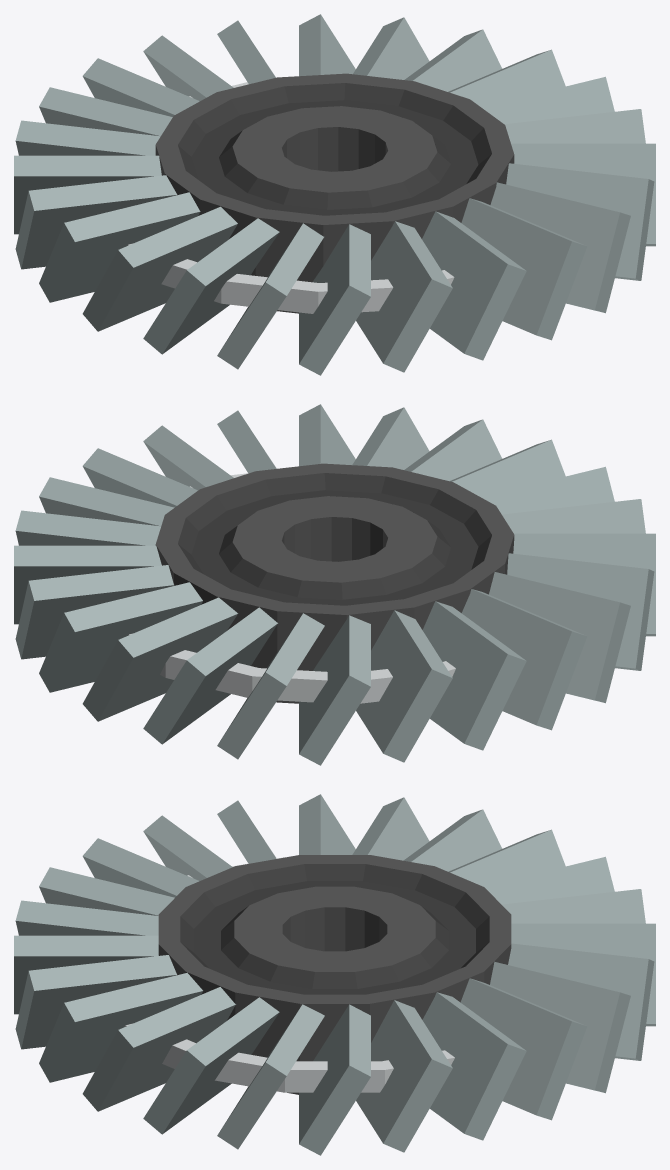
Rendered from rotor_invar.obj.
3 views of the same model, one above another, from view 1: azimuth 30°, elevation 25°; view 2: azimuth 150°, elevation 25°; view 3: azimuth 270°, elevation 25° (orthographic).
Visible parts, largest first — view 1: 3, 2, 1, g, f, h, c, a, q, e, r, i (+16 smaller); view 2: 3, 2, 1, s, r, t, x, b, a, w, j, u (+16 smaller); view 3: 3, 2, 1, k, j, l, p, q, b, o, f, m (+16 smaller).
Part boxes in pixels (x1,y1,x2,y2): 3: (178, 83, 491, 215); 2: (155, 73, 514, 313); 1: (232, 106, 437, 192); g: (422, 211, 526, 360); f: (461, 198, 587, 340); h: (356, 221, 452, 372); c: (82, 206, 237, 331); a: (39, 192, 200, 302); q: (490, 182, 630, 313); e: (143, 218, 279, 354); r: (15, 175, 177, 269); i: (299, 224, 370, 375); 3: (178, 473, 491, 605); 2: (155, 463, 514, 703); 1: (232, 496, 437, 582); s: (422, 601, 526, 750); r: (461, 589, 587, 730); t: (356, 610, 452, 762); x: (82, 597, 238, 721); b: (39, 582, 202, 692); a: (489, 572, 630, 703); w: (143, 607, 277, 744); j: (15, 565, 174, 659); u: (299, 615, 370, 765); 3: (180, 864, 489, 994); 2: (158, 855, 511, 1094); 1: (234, 886, 435, 971); k: (422, 992, 526, 1140); j: (460, 978, 587, 1120); l: (356, 1000, 452, 1152); p: (82, 987, 235, 1111); q: (39, 972, 202, 1082); b: (490, 961, 630, 1093); o: (143, 997, 279, 1134); f: (15, 955, 176, 1049); m: (299, 1004, 370, 1155).
Bounding box in the file's own units: 1.59 × 0.25 × 1.59.
